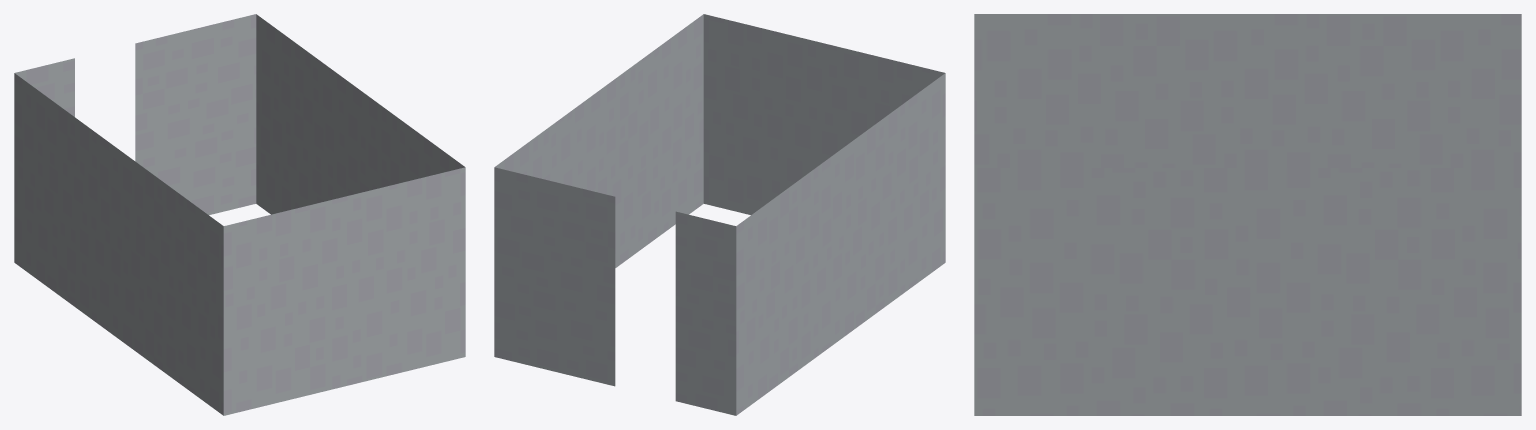
The model's file is archery_s486-511.glb.
3 views of the same model, side by side, from view 1: azimuth 30°, elevation 25°; view 2: azimuth 150°, elevation 25°; view 3: azimuth 270°, elevation 25° (orthographic). The views are drawn at different scales.
Visible parts, largest first — view 1: archery_s486-511; view 2: archery_s486-511; view 3: archery_s486-511.
Part boxes in pixels (x1,y1,x2,y2): archery_s486-511: [14, 14, 465, 415]; archery_s486-511: [494, 14, 945, 415]; archery_s486-511: [974, 14, 1521, 415].
Size of what is drawn, in the model's own units: 4 by 3 by 6.
1 material, 1 textured.
